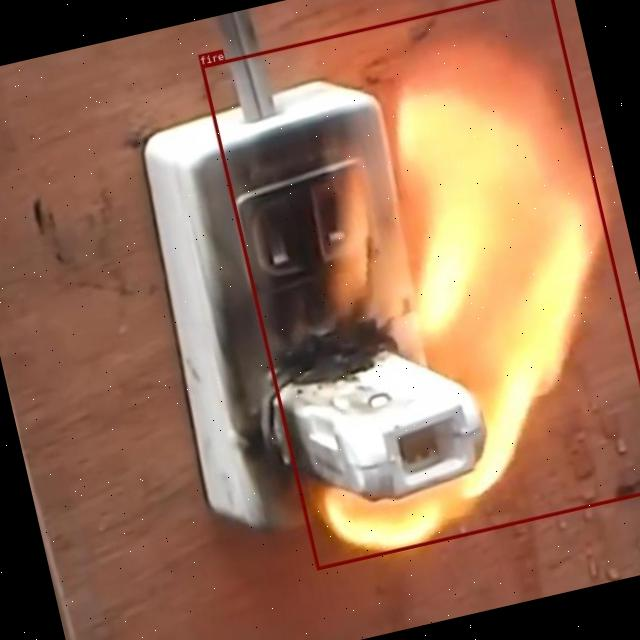fire: (199, 0, 640, 569)
